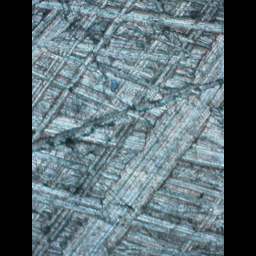d: (44, 65, 208, 240)
